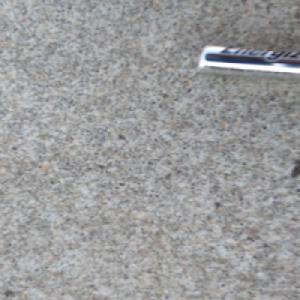Battery: (192, 43, 300, 84)
